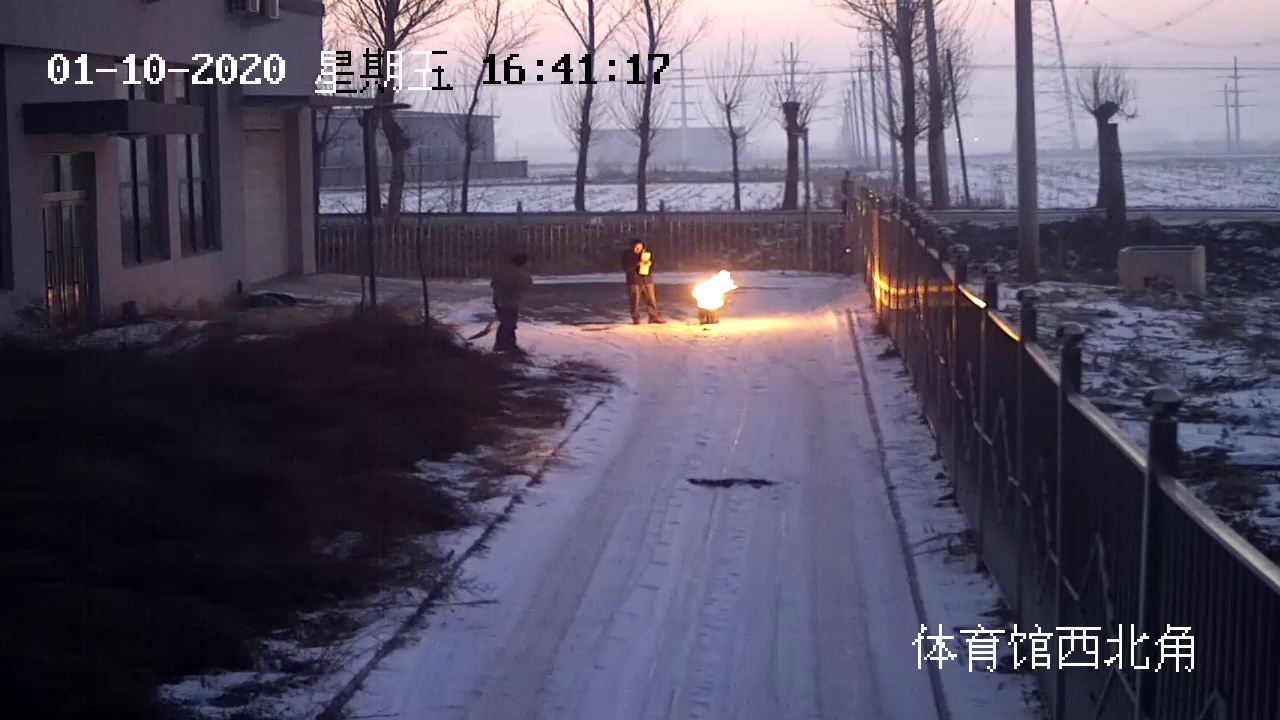fire: (691, 265, 731, 313)
